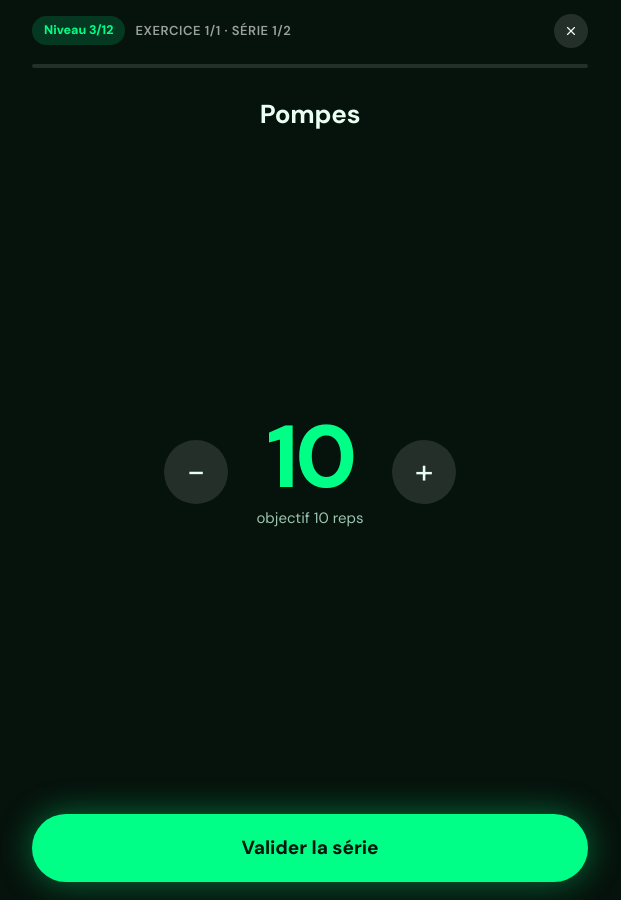
Scenario: repos › ne s affiche pas quand il est desactive sur la grille
Click the button "Valider la série".
click(310, 848)  # box left=32, top=814, right=588, bottom=882
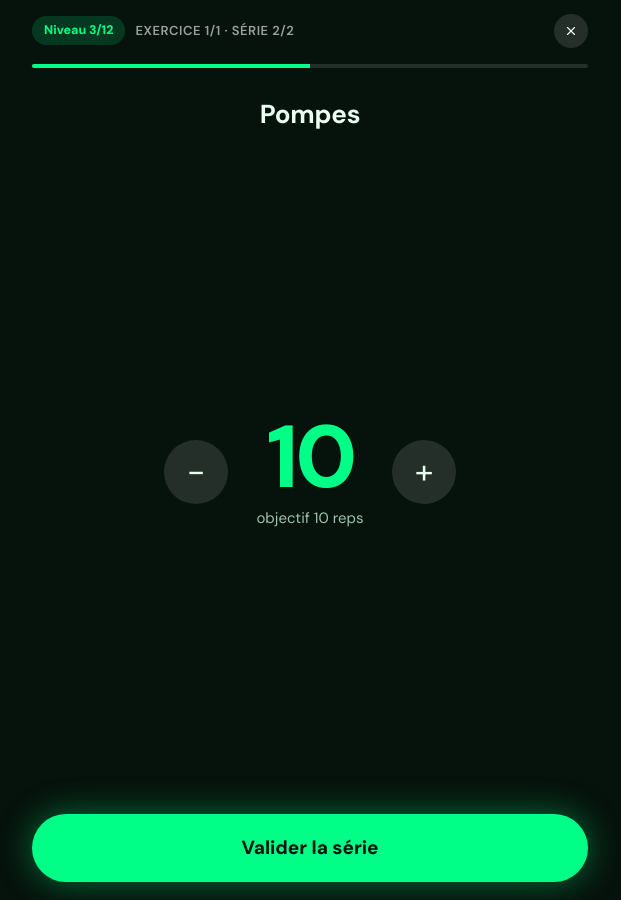
Check: the text "Exercice 1/1 · Série 2/2" is shown, box left=135, top=21, right=294, bottom=40
